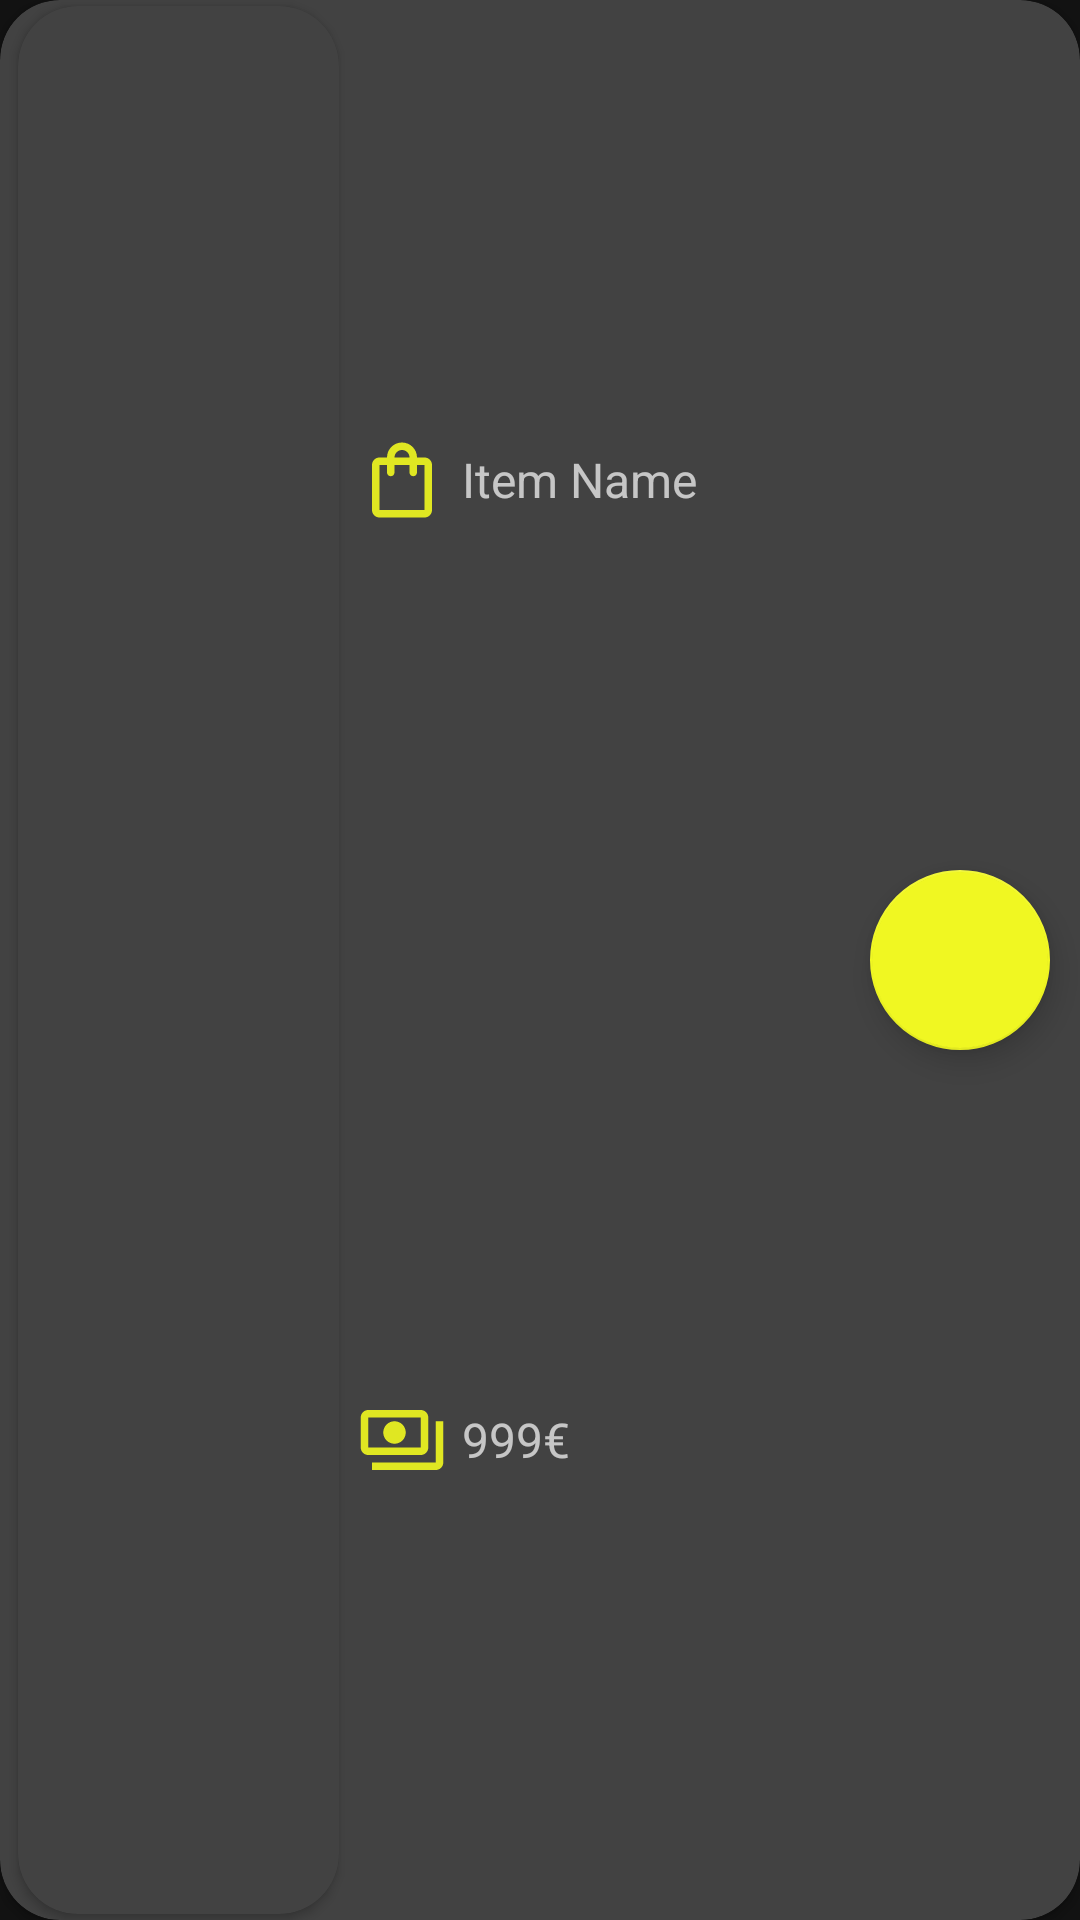

Locate icon controls on the screen. Image size 1080*1920, boxes as (x1, y1, x2, y2).
money: (360, 1410, 444, 1470)
shopping bag: (372, 442, 432, 518)
